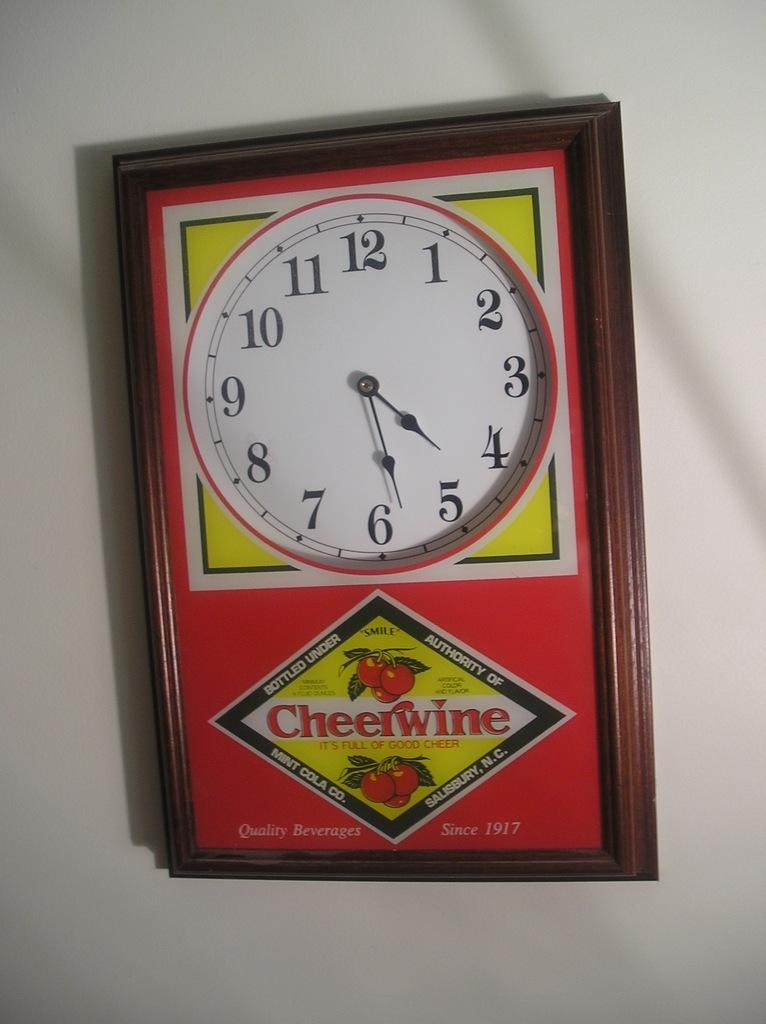Luggage-and-bags: (110, 95, 659, 883)
